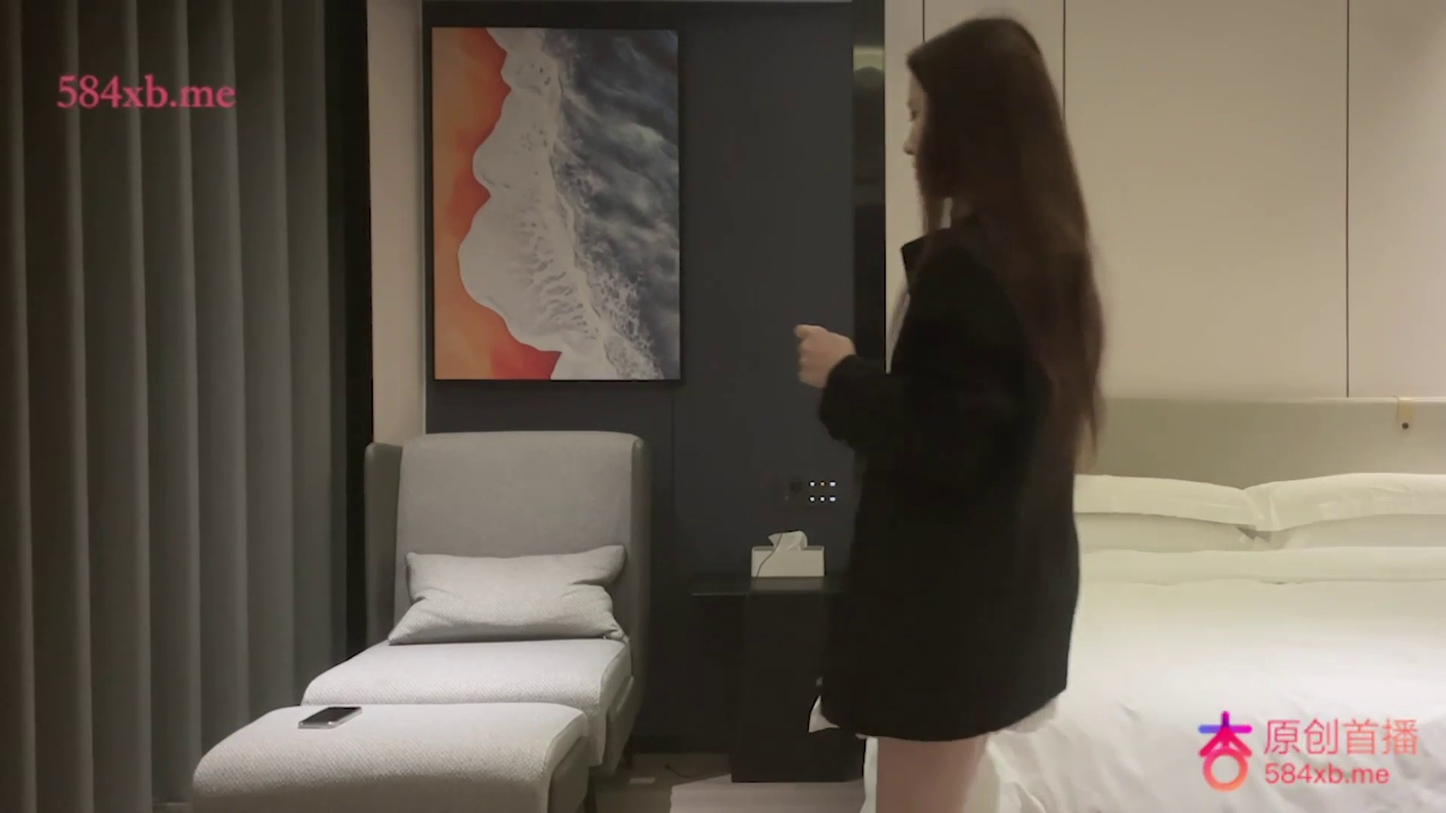stand: (792, 14, 1109, 802)
